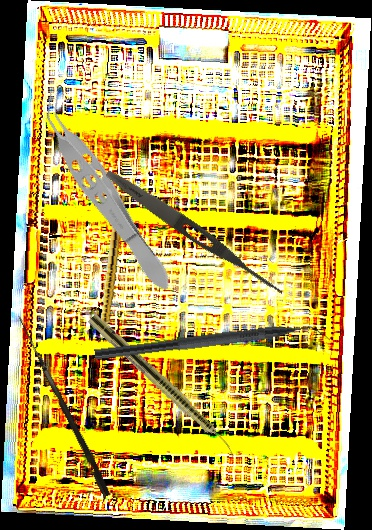Chopper: (94, 316, 331, 377)
Dressing Forceps: (101, 165, 289, 300)
Handpiece: (85, 312, 244, 462), (95, 194, 126, 343)
Hook Surgical: (10, 315, 114, 498)
Tissue Forceps: (25, 84, 184, 300)
